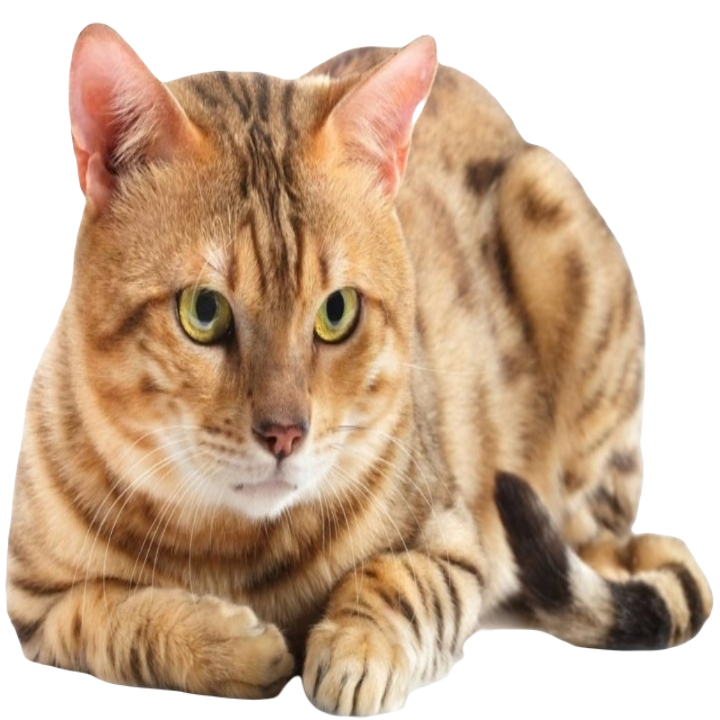Cat: (9, 22, 714, 719)
